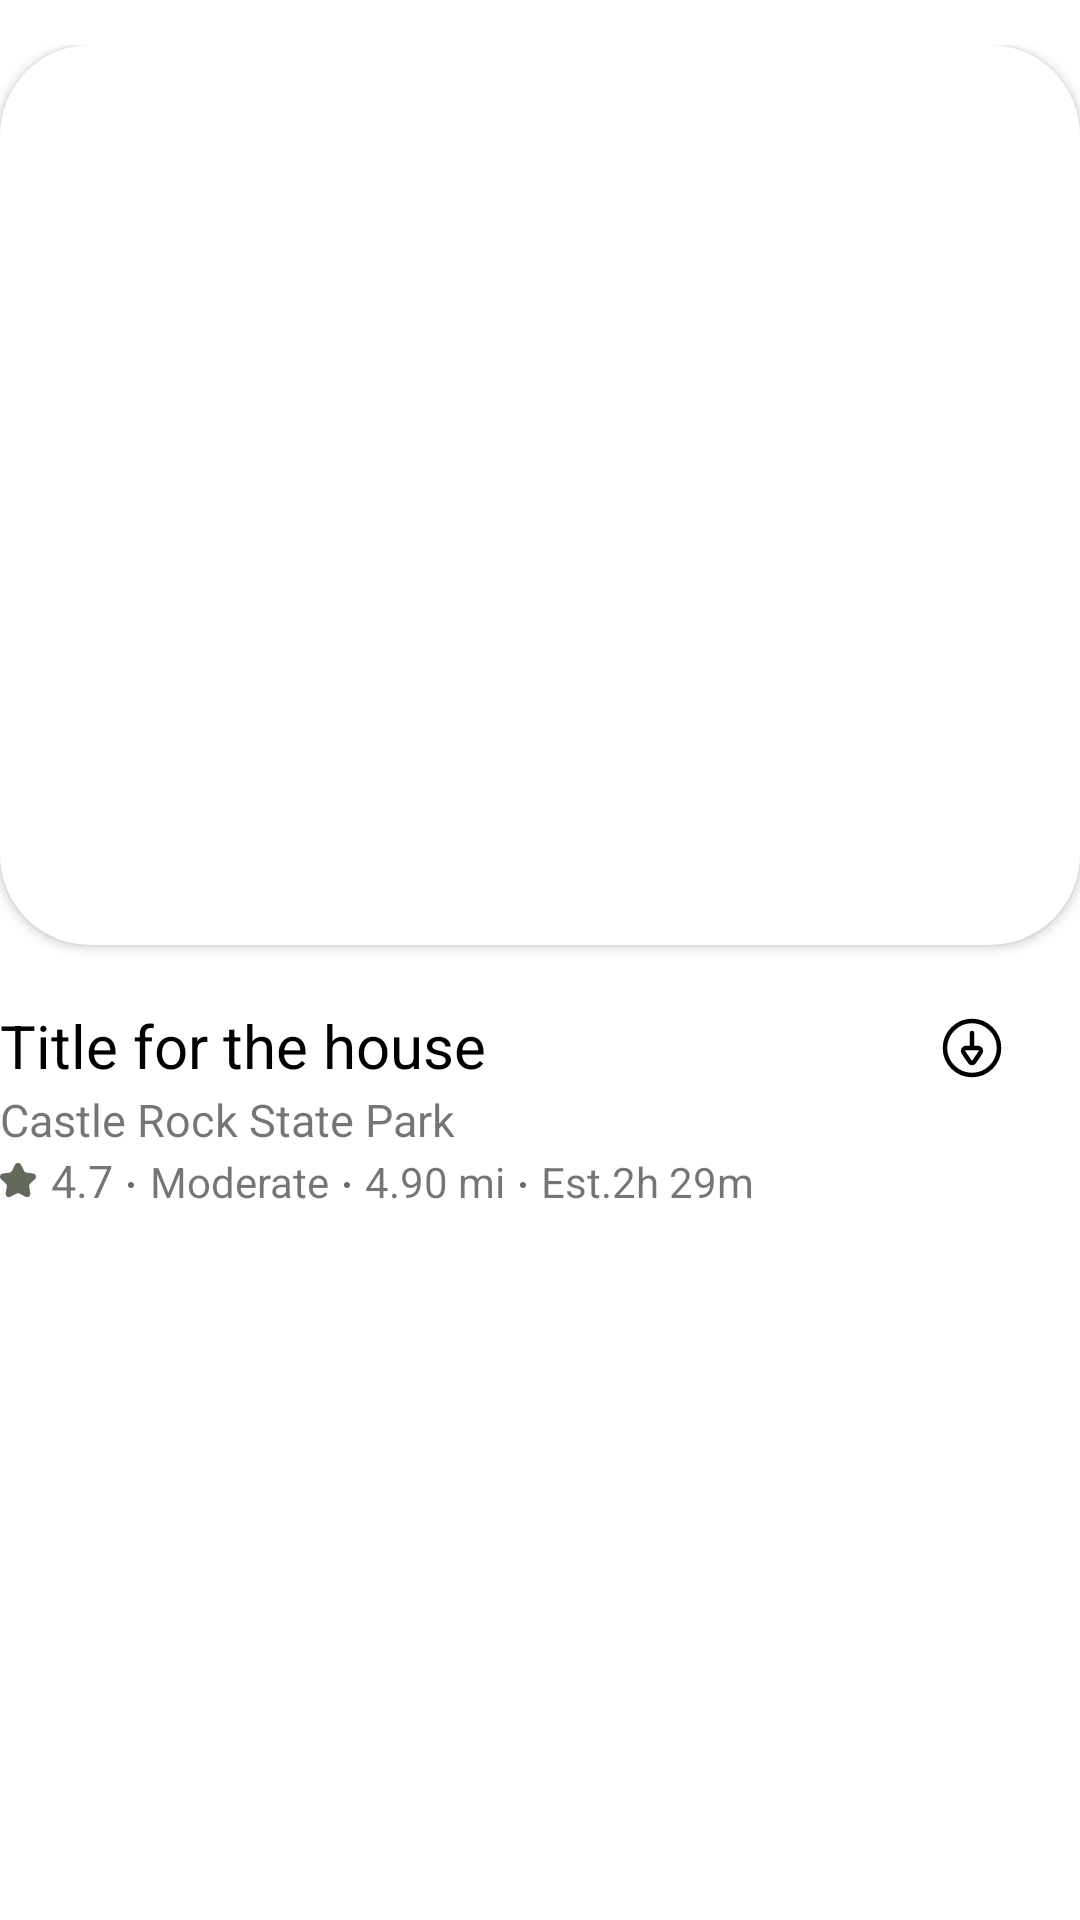

Locate icon controls on the screen. Image size 1080*1920, boxes as bbox=[x1, y1, x2, y2].
Down Arrow Icon: bbox=[942, 1018, 1002, 1078]
Star Icon: bbox=[0, 1163, 36, 1197]
